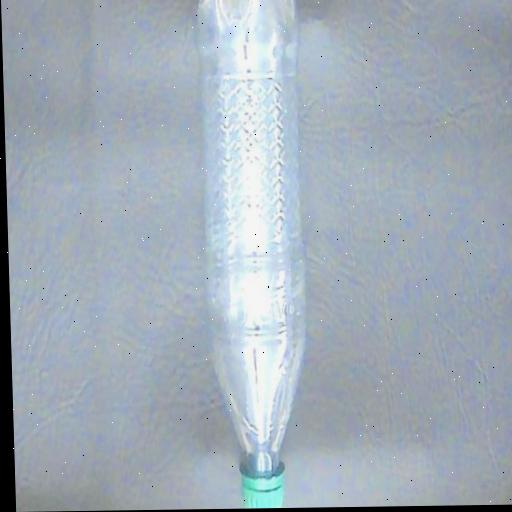bottle: (168, 0, 329, 510)
